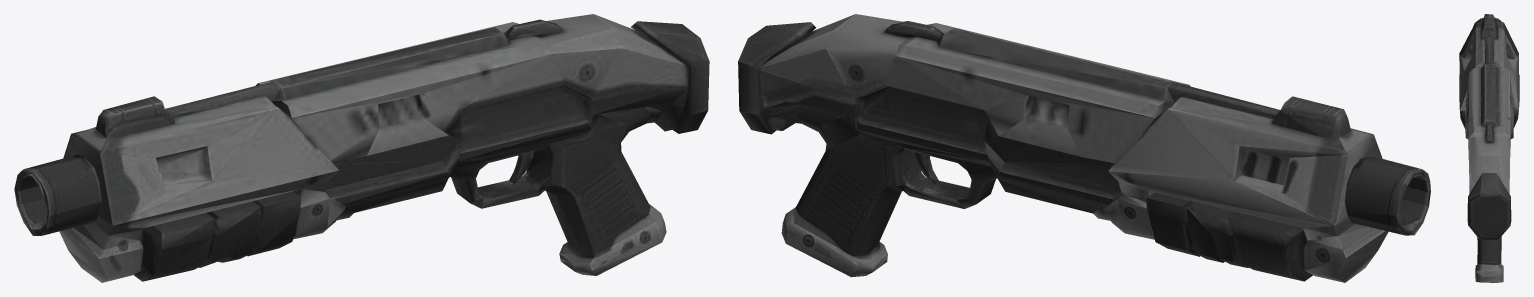
Rendered from shotgun.glb.
3 renders of one model, left to right at view 1: azimuth 30°, elevation 25°; view 2: azimuth 150°, elevation 25°; view 3: azimuth 270°, elevation 25°, orthographic. The views are drawn at different scales.
Visible parts, largest first — view 1: mesh_node; view 2: mesh_node; view 3: mesh_node.
Part boxes in pixels (bbox=[...]): mesh_node: bbox=[14, 14, 709, 282]; mesh_node: bbox=[738, 14, 1430, 282]; mesh_node: bbox=[1459, 14, 1519, 282].
Size of the model in its own units: 1 by 0.3975 by 0.1538.
Materials: 1 (1 with a texture image).
